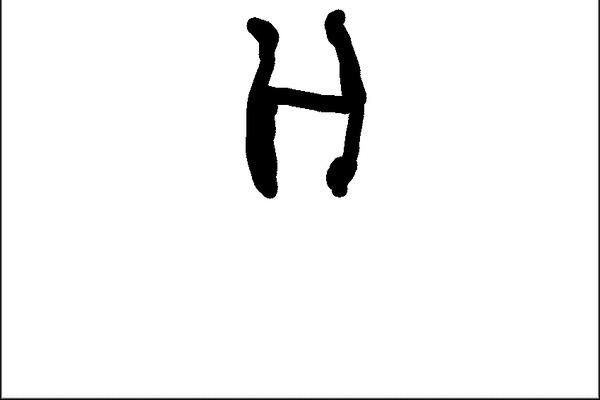H: (237, 6, 371, 217)
